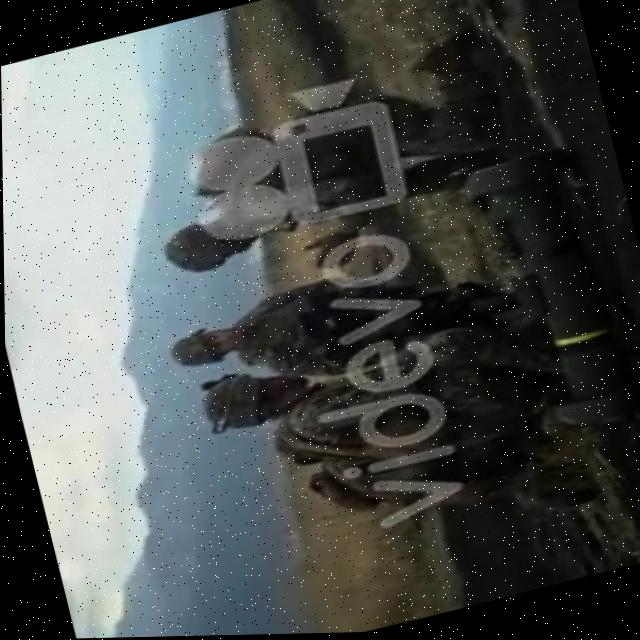rocket: (455, 139, 640, 448)
